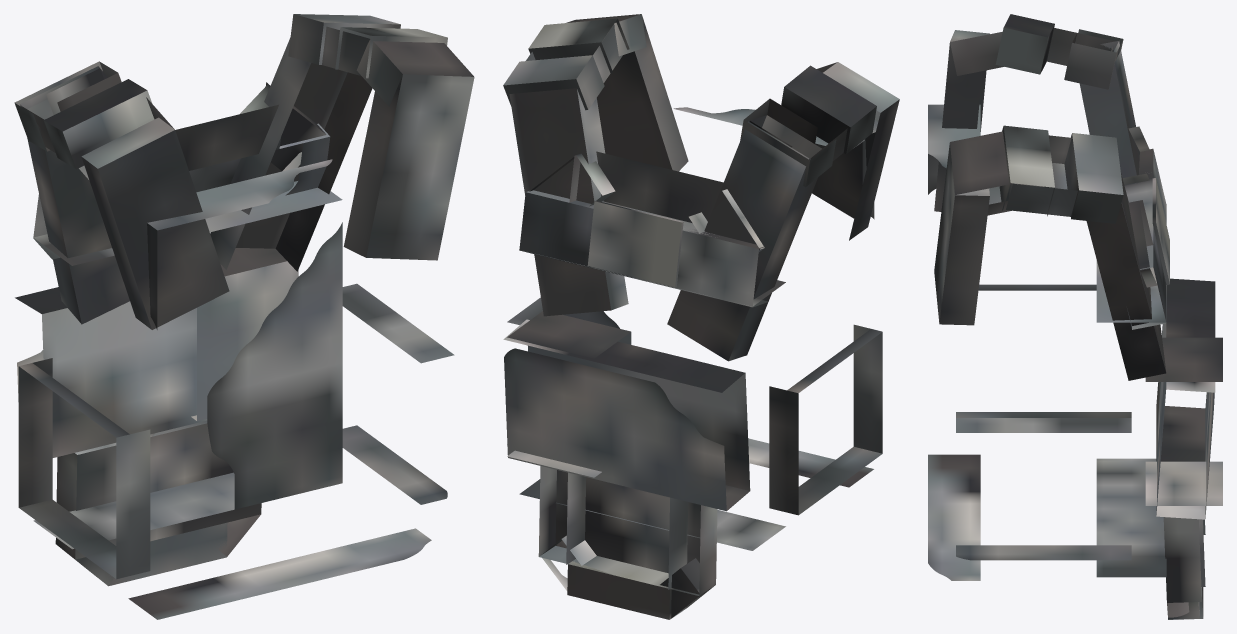
Rendered from nato.obj.
3 renders of one model, left to right at view 1: azimuth 30°, elevation 25°; view 2: azimuth 150°, elevation 25°; view 3: azimuth 270°, elevation 25°, orthographic. The views are drawn at different scales.
Visible parts, largest first — view 1: nato; view 2: nato; view 3: nato.
Boxes of the visible parts, x1=… form: nato: x1=14, y1=14, x2=474, y2=619; nato: x1=503, y1=14, x2=899, y2=619; nato: x1=928, y1=14, x2=1222, y2=619.
Size of the model in its own units: 0.7121 by 1.02 by 0.525.
